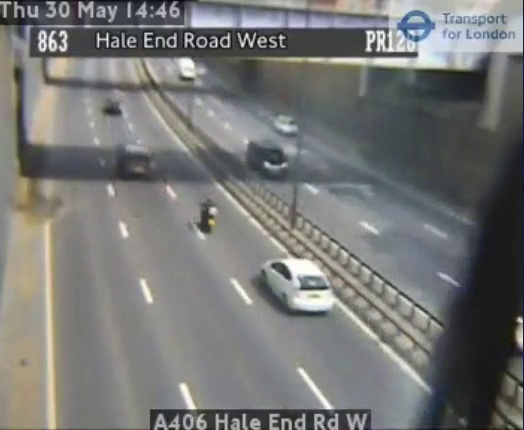car: (263, 259, 333, 312)
motorcycle: (200, 196, 219, 231)
